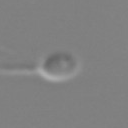normal: (1, 64, 36, 79)
